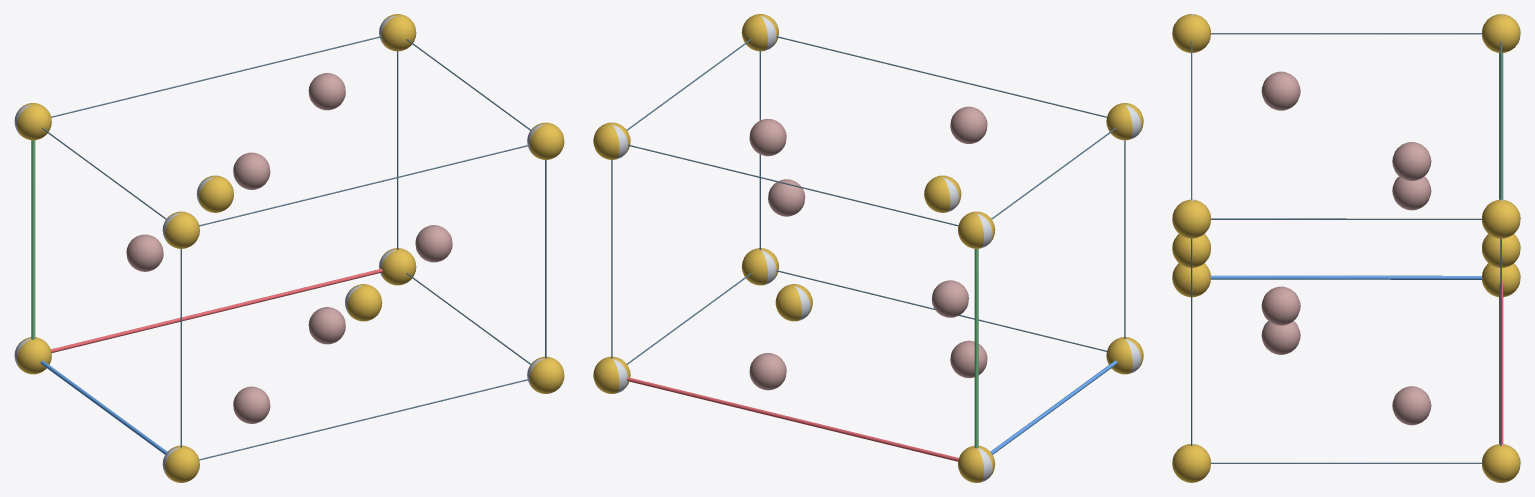
The model's file is calaverite.glb.
The picture shows the model from 3 angles, left to right: view 1: azimuth 30°, elevation 25°; view 2: azimuth 150°, elevation 25°; view 3: azimuth 270°, elevation 25°; orthographic projection. The views are drawn at different scales.
Parts seen in each view (by area): view 1: Au · Au · 0.9 (×10), Ô mạng và các trục a, b, c, Te · Te · 1 (×6); view 2: Au · Au · 0.9 (×10), Ô mạng và các trục a, b, c, Te · Te · 1 (×6); view 3: Au · Au · 0.9 (×10), Te · Te · 1 (×6), Ô mạng và các trục a, b, c.
Boxes of the visible parts, x1,y1,x2,y2 form: Au · Au · 0.9 (×10): [17, 14, 564, 482]; Ô mạng và các trục a, b, c: [31, 36, 546, 460]; Te · Te · 1 (×6): [126, 73, 452, 423]; Au · Au · 0.9 (×10): [593, 14, 1143, 482]; Ô mạng và các trục a, b, c: [611, 36, 1125, 461]; Te · Te · 1 (×6): [749, 106, 987, 390]; Au · Au · 0.9 (×10): [1172, 14, 1520, 482]; Te · Te · 1 (×6): [1261, 71, 1431, 425]; Ô mạng và các trục a, b, c: [1191, 33, 1503, 463].
Size of the model in its own units: 7.84 by 5.05 by 5.71.
